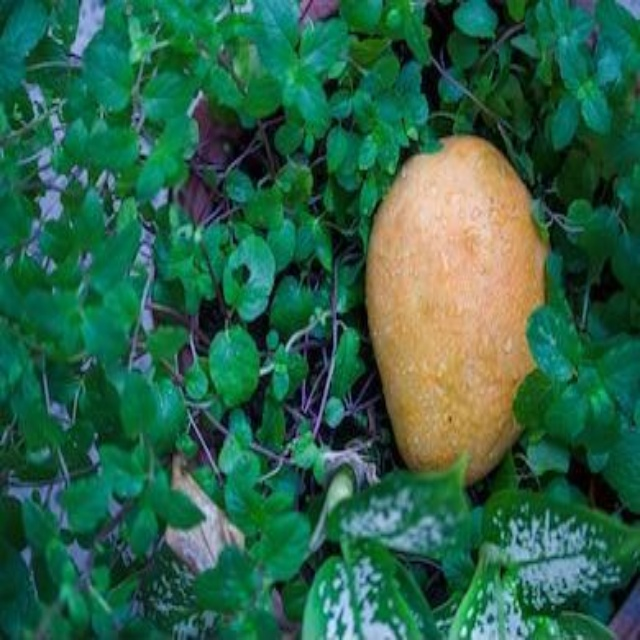mango: (366, 129, 541, 486)
